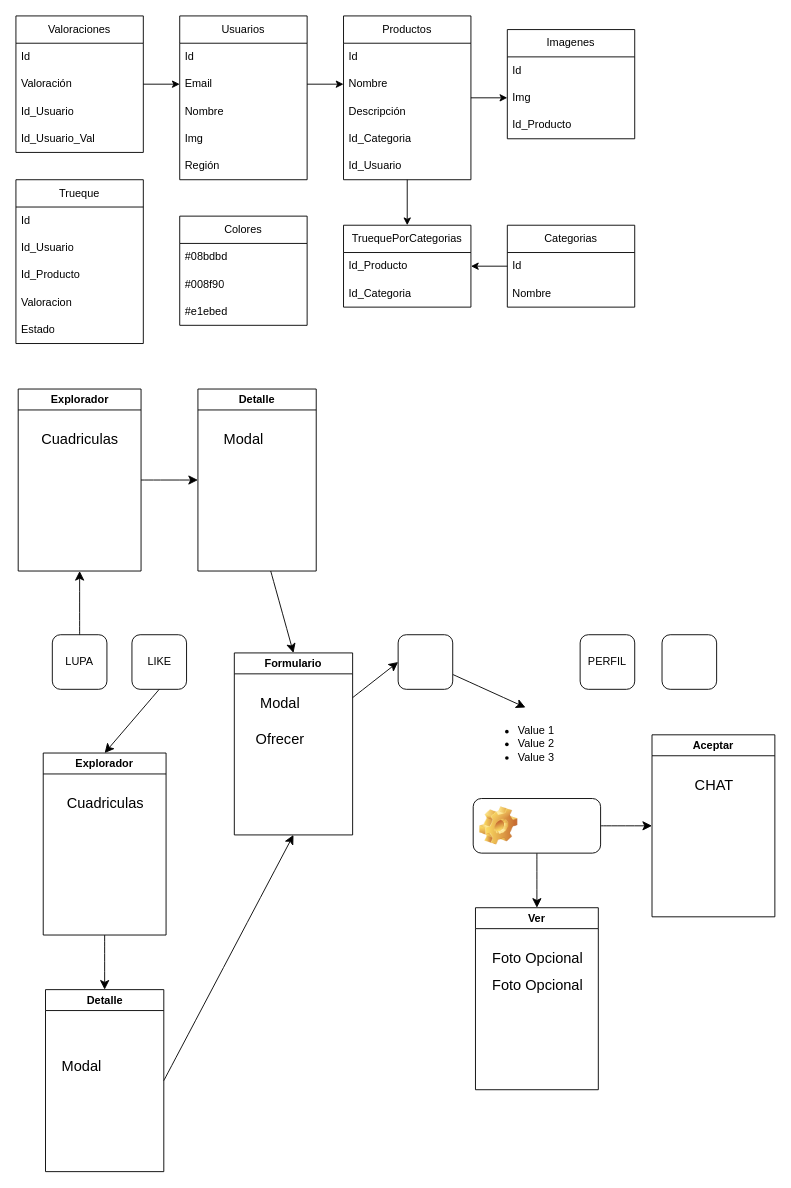
The diagram is 791 pixels wide and 1188 high, and some of its shapes have lost their labels. The centre of each missing label's shape, as x and y in pixels:
NOTIF.: the point at 425,661
Rechazar Aceptar Ver: the point at 536,825
